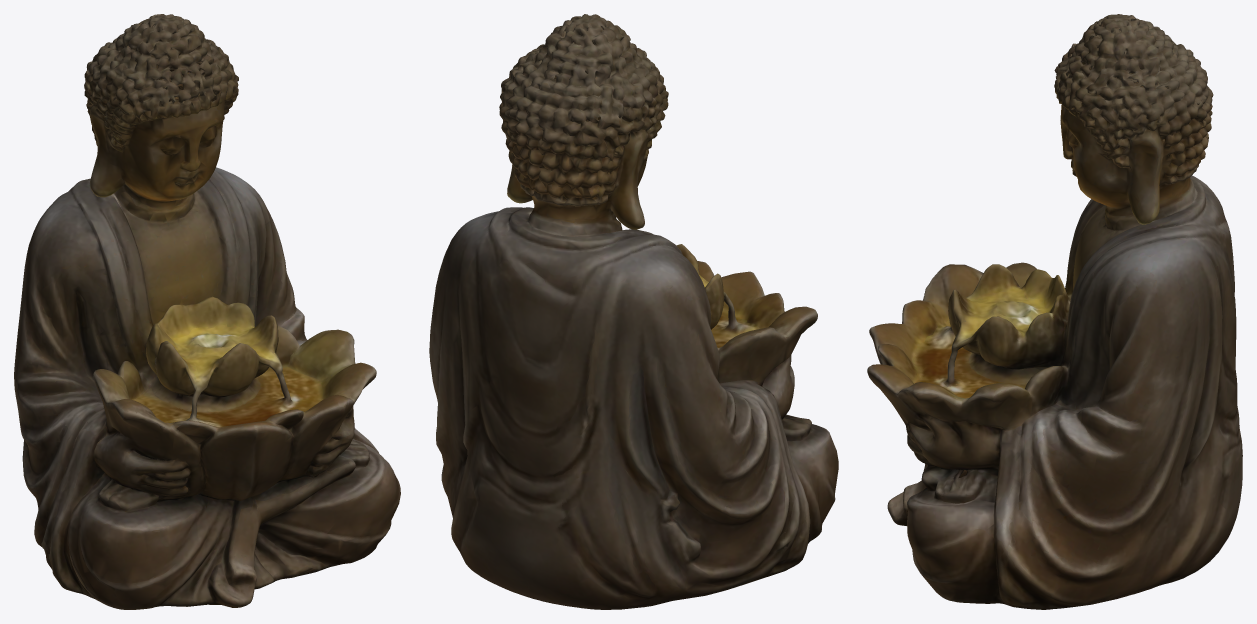
File: lotus-buddha-sculpture.glb
3 renders of one model, left to right at view 1: azimuth 30°, elevation 25°; view 2: azimuth 150°, elevation 25°; view 3: azimuth 270°, elevation 25°, orthographic. The views are drawn at different scales.
Visible parts, largest first — view 1: world; view 2: world; view 3: world.
Part boxes in pixels (x1,y1,x2,y2): world: [14, 14, 400, 609]; world: [429, 14, 838, 609]; world: [867, 14, 1242, 609].
Bounding box in the file's own units: 0.6692 × 1 × 0.6563.
Materials: 1 (1 with a texture image).
